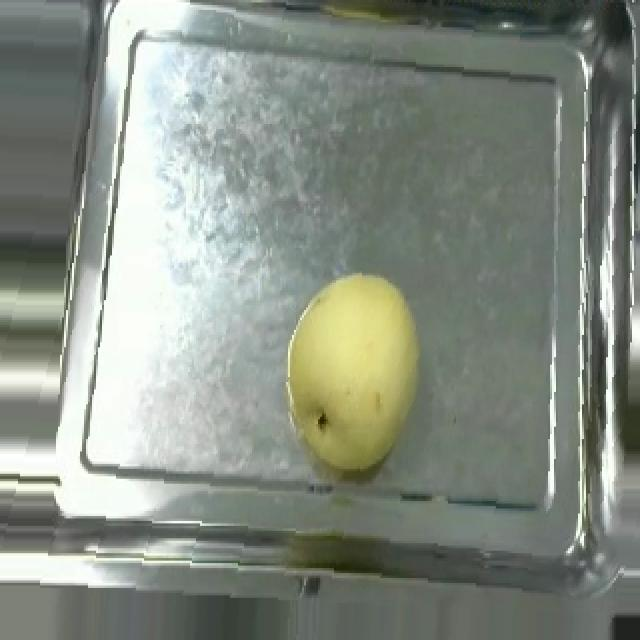Fruit: (276, 263, 432, 479)
